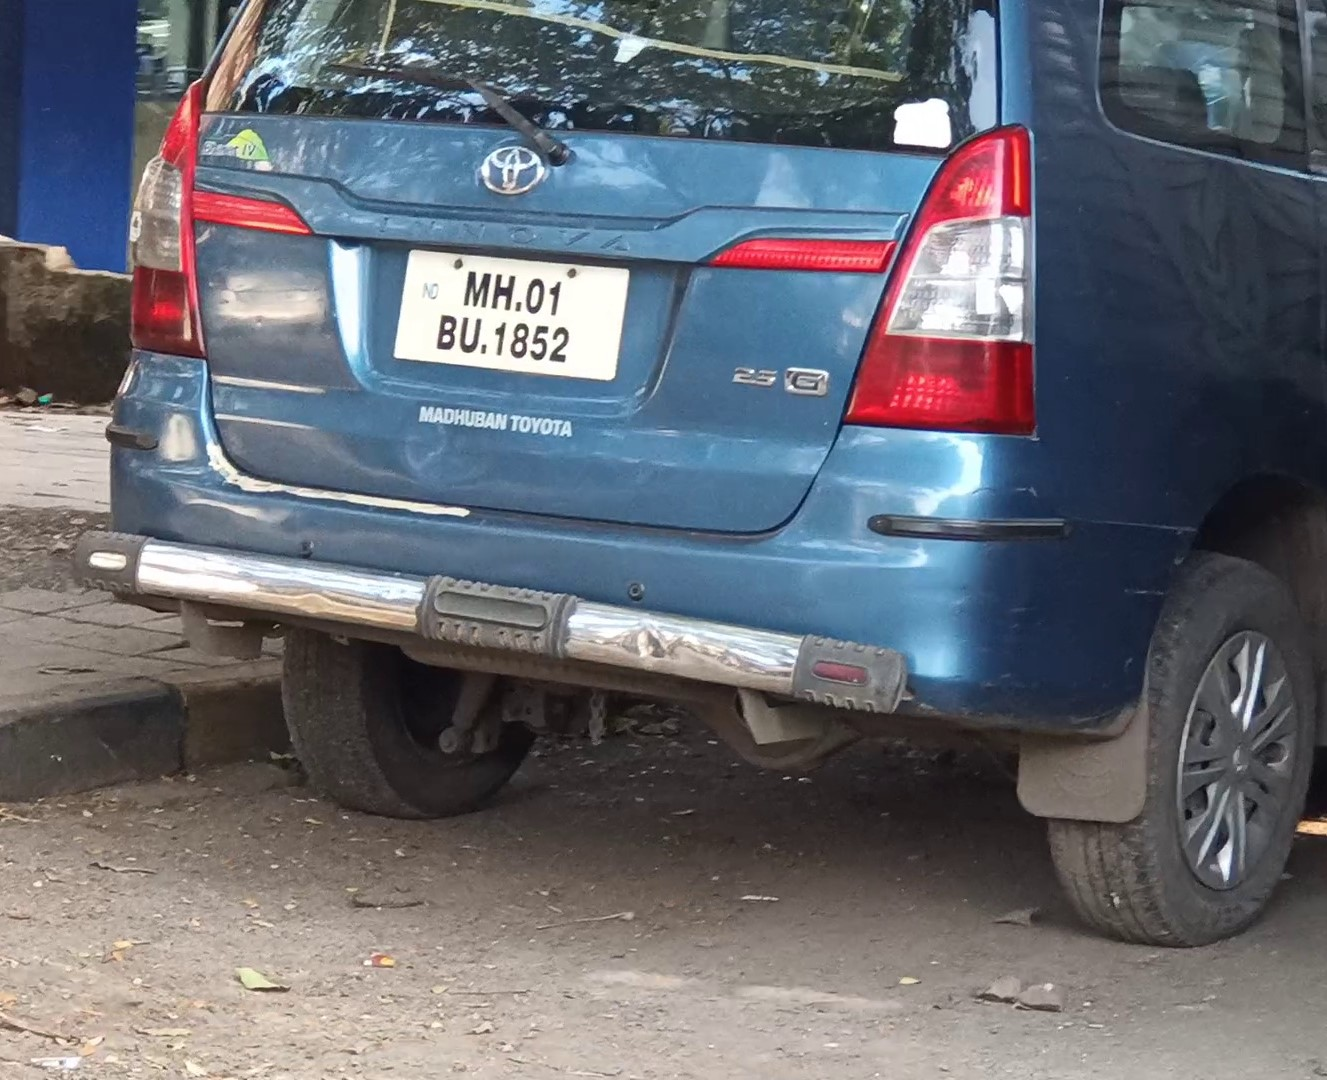MH01BU1852: (394, 242, 633, 384)
